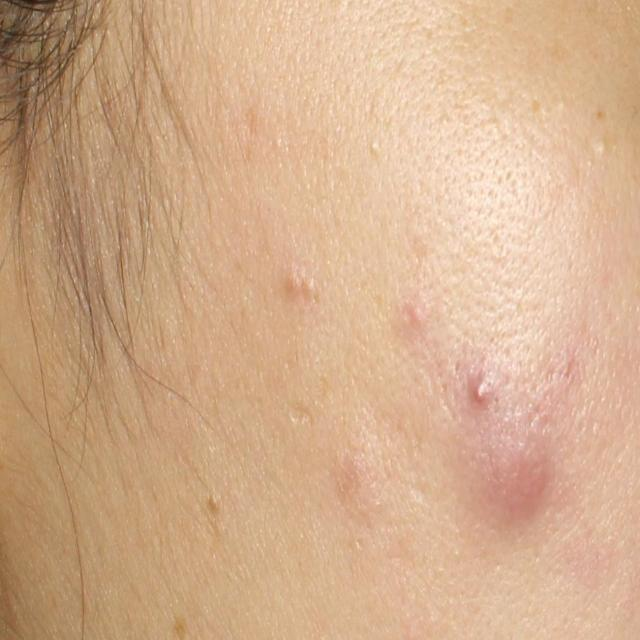nodule: (484, 436, 550, 523)
